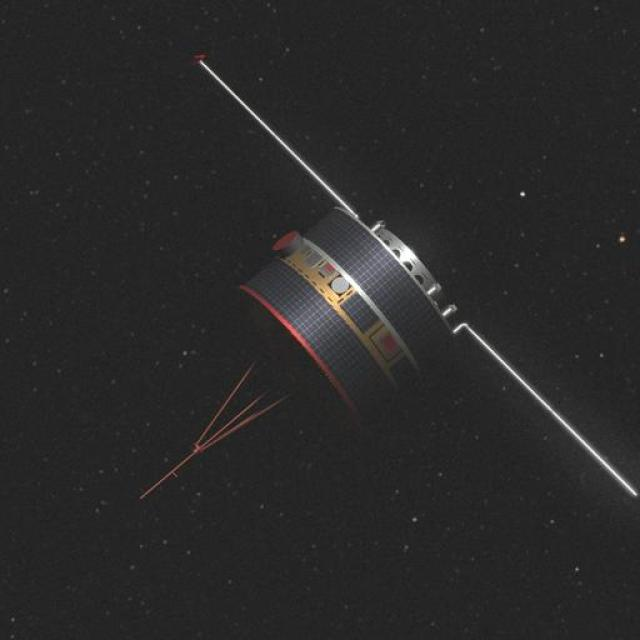double_start: (182, 154, 471, 488)
